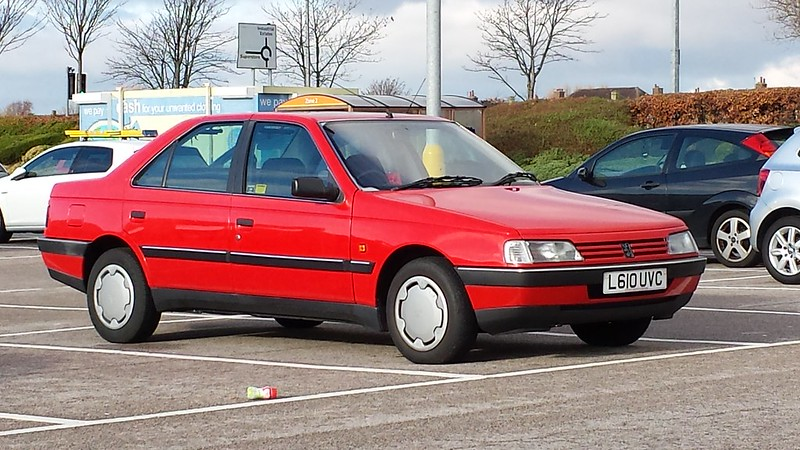number_plate: (599, 266, 682, 299)
